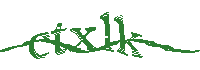c: (28, 29, 52, 60)
k: (115, 12, 144, 58)
l: (100, 10, 115, 52)
t: (52, 21, 68, 60)
x: (69, 26, 98, 52)
